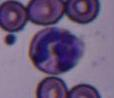N: (30, 27, 84, 74)
